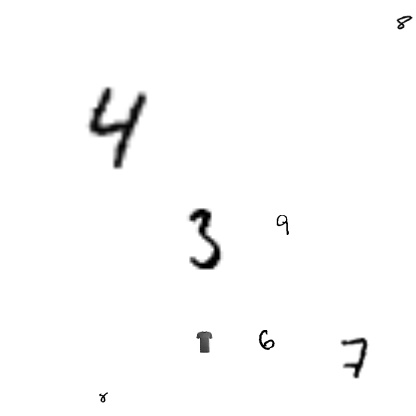3: (163, 197, 247, 281)
4: (58, 68, 170, 180)
6: (251, 327, 279, 355)
7: (329, 326, 385, 382)
8: (392, 10, 414, 32), (96, 390, 110, 404)
9: (269, 209, 297, 237)
T-shirt/top: (193, 331, 215, 353)
